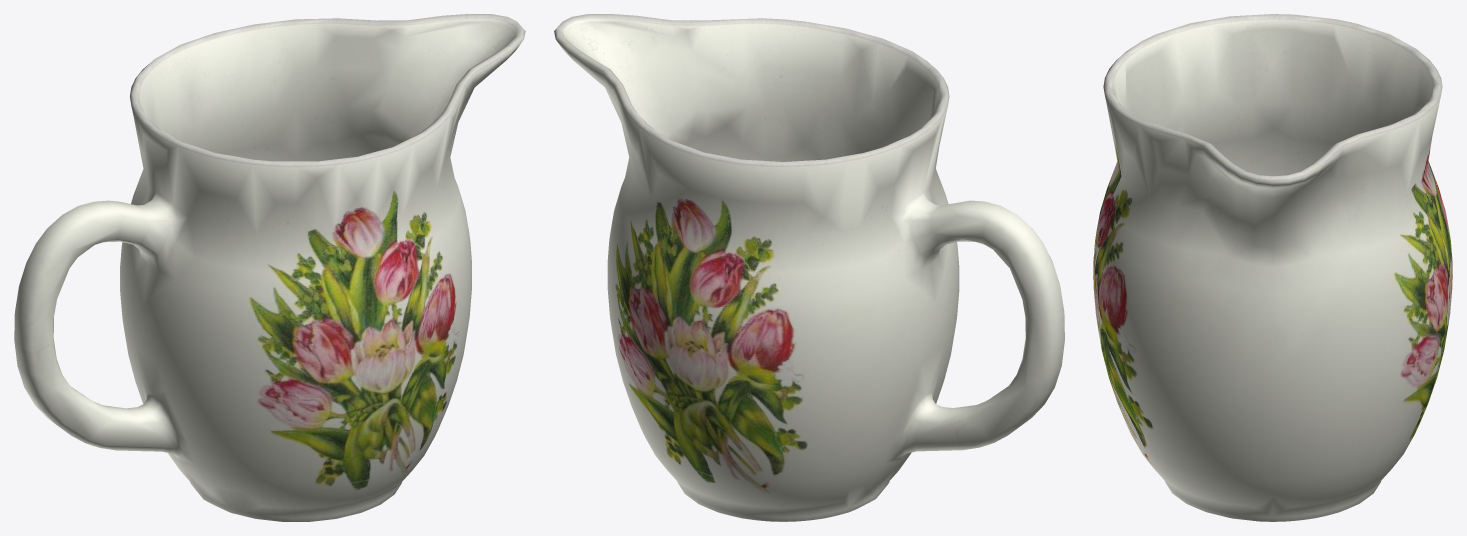
Rendered from jug_01_1k.gltf.
3 renders of one model, left to right at view 1: azimuth 30°, elevation 25°; view 2: azimuth 150°, elevation 25°; view 3: azimuth 270°, elevation 25°, orthographic. The views are drawn at different scales.
Visible parts, largest first — view 1: jug_01; view 2: jug_01; view 3: jug_01.
Part boxes in pixels (box(x1,y1,x2,y2)): jug_01: box(14, 14, 525, 521); jug_01: box(554, 14, 1064, 521); jug_01: box(1093, 14, 1452, 521).
Size of the model in its own units: 0.275 by 0.2113 by 0.1675.
1 material, 1 textured.
